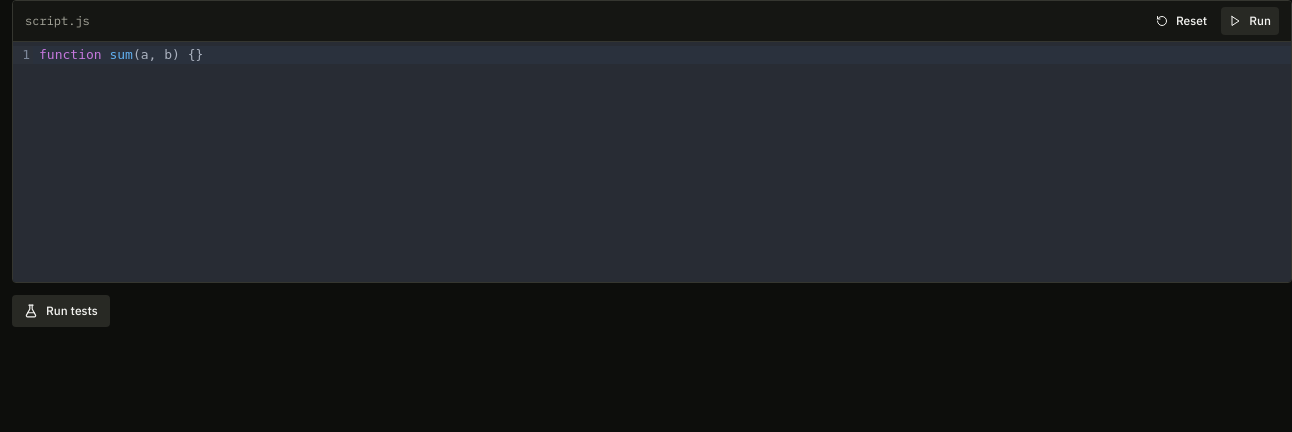
ExerciseEditor: running the exercise's tests › shows why a case failed when the code threw
Click the button "Run tests": (61, 311) x1=12 y1=295 x2=110 y2=327
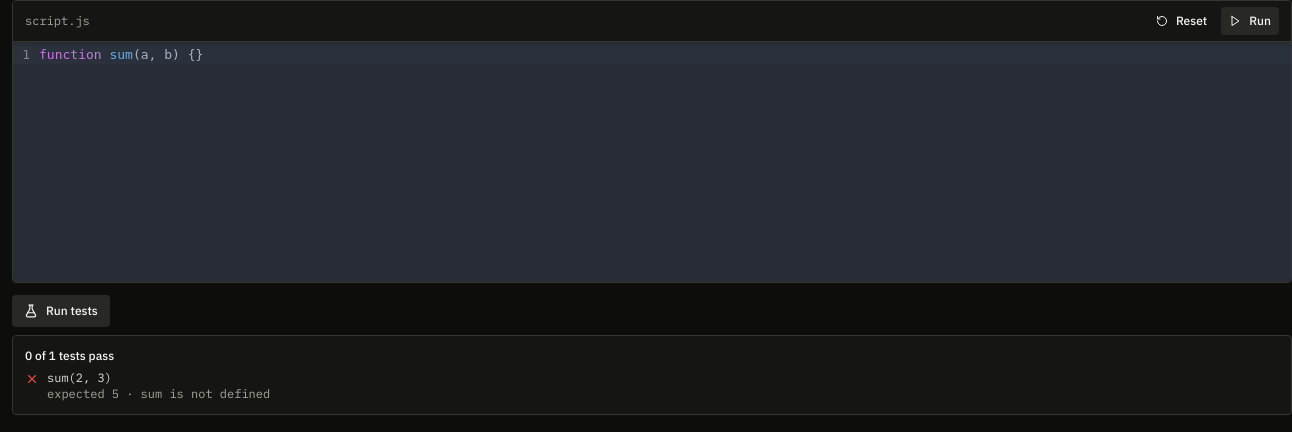
Result: the text "expected 5 · sum is not defined" is shown at x1=47 y1=386 x2=270 y2=402
